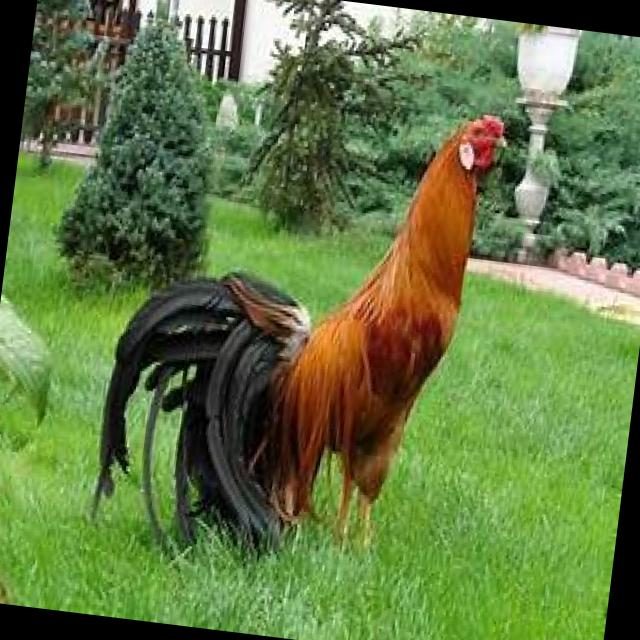animal: (84, 70, 508, 591)
